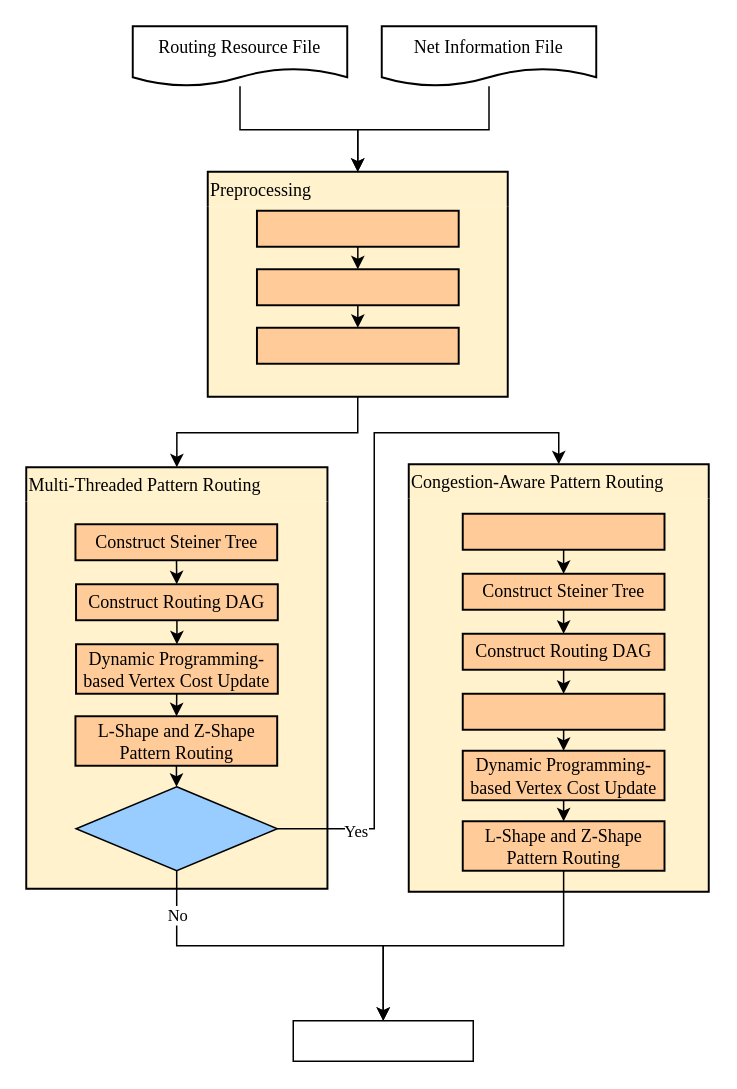
Some shapes in this 737 by 1089 pixel diagram are drawn without their labels. Here are the shapes that lost their labels. From the top down, the centre of each, then its label:
At pixel 357 228: "Pin Access Point Selection".
At pixel 357 287: "Net Order Decision".
At pixel 357 345: "Dynamic Net Separation".
At pixel 563 531: "Construct Congestion Map".
At pixel 563 711: "Construct Detours".
At pixel 176 828: "Net overflow?".
At pixel 382 1040: "Routing Result".
